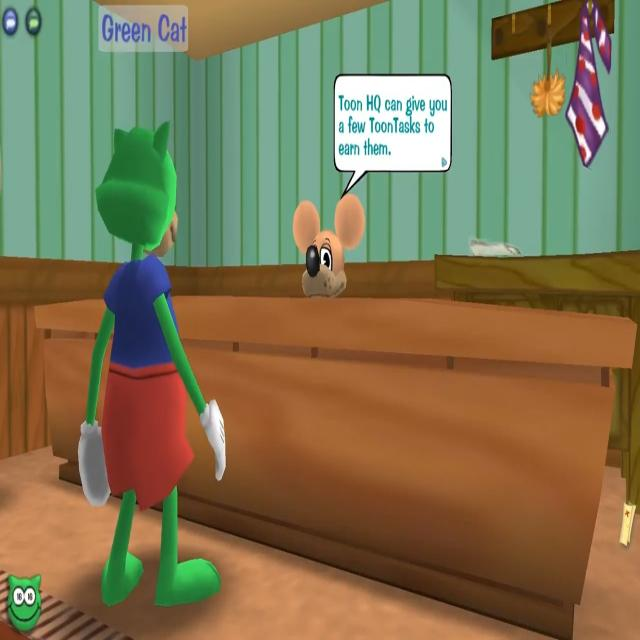npc: (292, 198, 364, 300)
